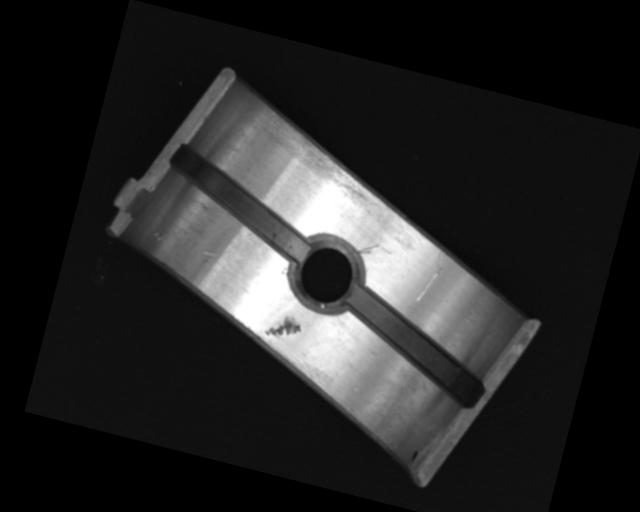blot: (409, 448, 418, 464)
bruise: (263, 310, 303, 343), (200, 246, 222, 259)
gap: (331, 284, 499, 407), (154, 142, 323, 260)
hole: (284, 229, 372, 321)
nick: (405, 242, 446, 313), (356, 239, 379, 258)
scratch: (249, 108, 411, 221)
